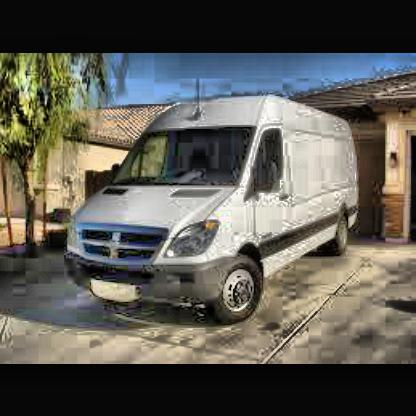Dodge Sprinter Cargo Van 2009: (59, 92, 364, 329)
